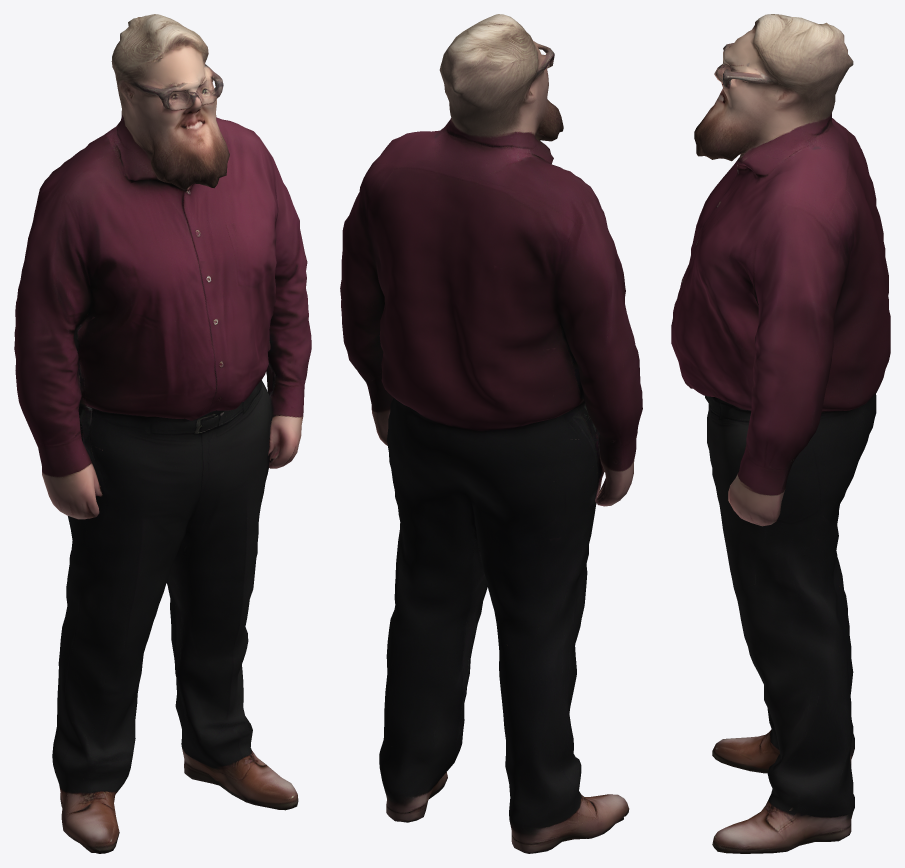
File: Devin_Person_0311060908_texture.glb
3 renders of one model, left to right at view 1: azimuth 30°, elevation 25°; view 2: azimuth 150°, elevation 25°; view 3: azimuth 270°, elevation 25°, orthographic.
Parts seen in each view (by area): view 1: Mesh_0.002; view 2: Mesh_0.002; view 3: Mesh_0.002.
Boxes of the visible parts, bbox=[...] form: Mesh_0.002: bbox=[14, 14, 311, 853]; Mesh_0.002: bbox=[340, 14, 642, 853]; Mesh_0.002: bbox=[671, 14, 890, 853].
Size of the model in its own units: 0.6872 by 1.83 by 0.4619.
1 material, 1 textured.
